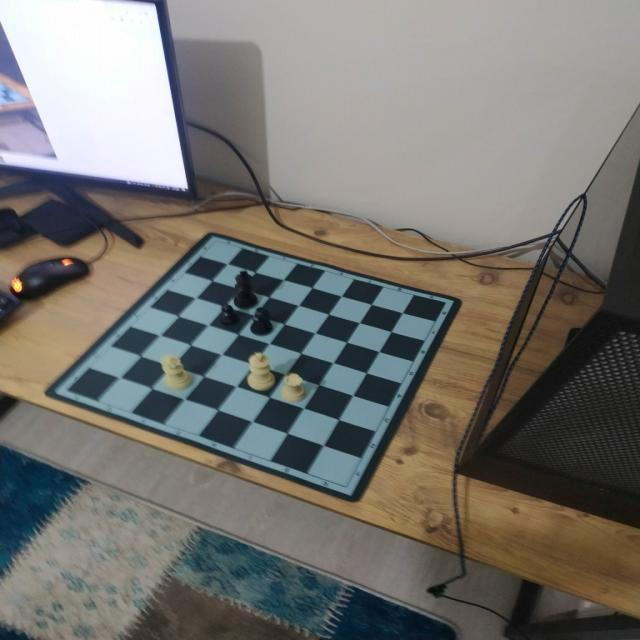chess-table-corners: (60, 384, 76, 396), (338, 482, 356, 492), (438, 297, 454, 308), (208, 236, 224, 246)
